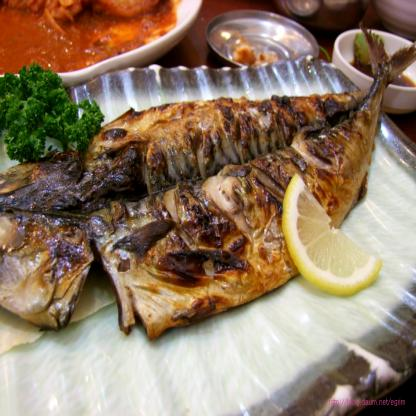Peixe: (0, 28, 398, 357)
